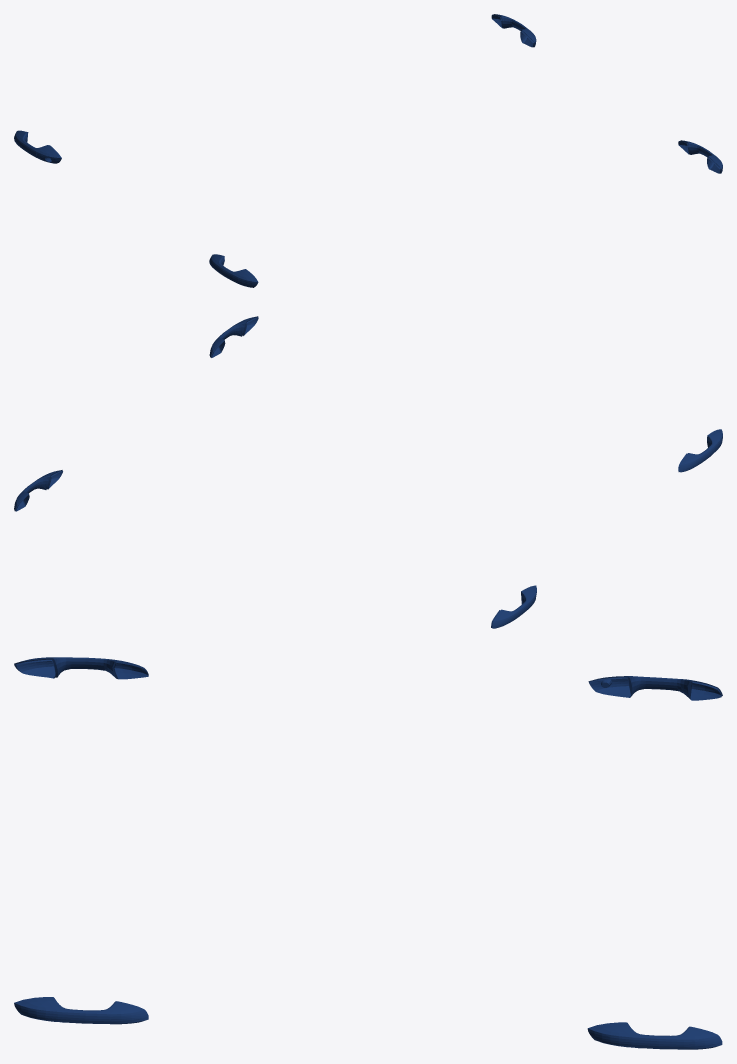
Rendered from dhl.glb.
3 views of the same model, one above another, from view 1: azimuth 30°, elevation 25°; view 2: azimuth 150°, elevation 25°; view 3: azimuth 270°, elevation 25° (orthographic). The views are drawn at different scales.
Parts seen in each view (by area): view 1: DHL; view 2: DHL; view 3: DHL.
Boxes of the visible parts, x1=… form: DHL: x1=14, y1=14, x2=722, y2=287; DHL: x1=14, y1=316, x2=722, y2=628; DHL: x1=14, y1=657, x2=722, y2=1049.
Size of the model in its own units: 1.7 by 0.1024 by 1.4.
